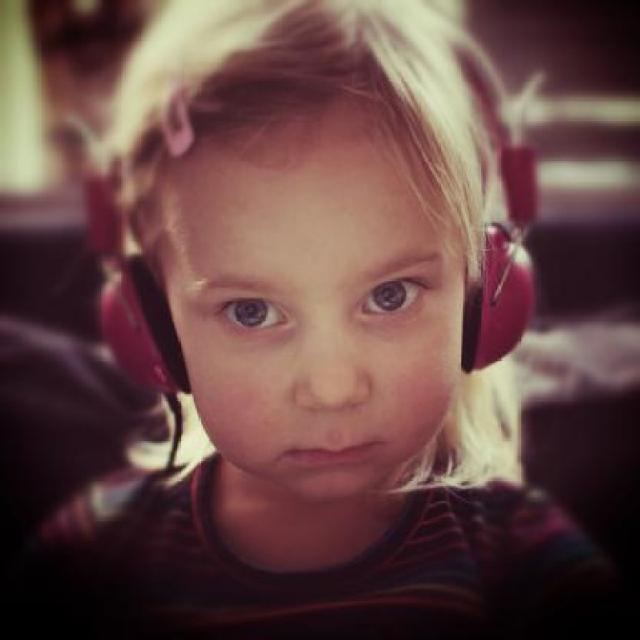laptop_computer: (70, 154, 580, 388)
